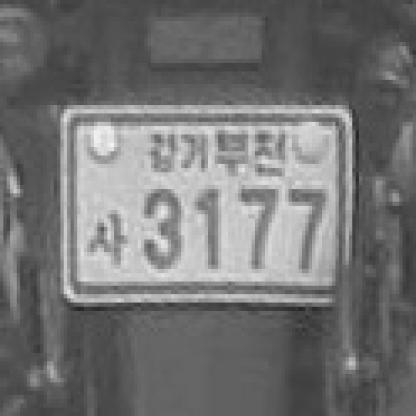bnum: (45, 95, 367, 320)
